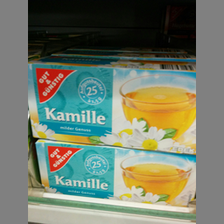tea: (28, 55, 195, 155), (34, 140, 196, 207)
